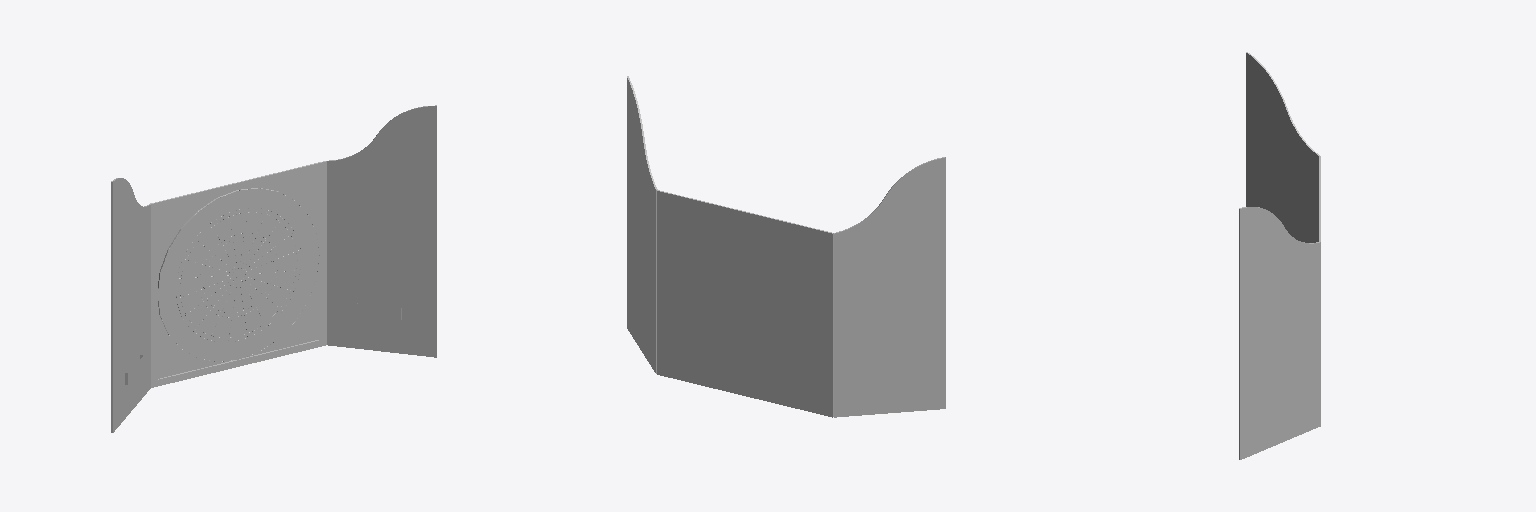
Rendered from dart_board2.obj.
3 renders of one model, left to right at view 1: azimuth 30°, elevation 25°; view 2: azimuth 150°, elevation 25°; view 3: azimuth 270°, elevation 25°, orthographic.
Visible parts, largest first — view 1: Group_001; view 2: Group_001; view 3: Group_001.
Part boxes in pixels (x1,y1,x2,y2): Group_001: (111,105,436,432); Group_001: (627,76,945,417); Group_001: (1239,52,1320,459).
Size of the model in its own units: 471 by 352 by 104.